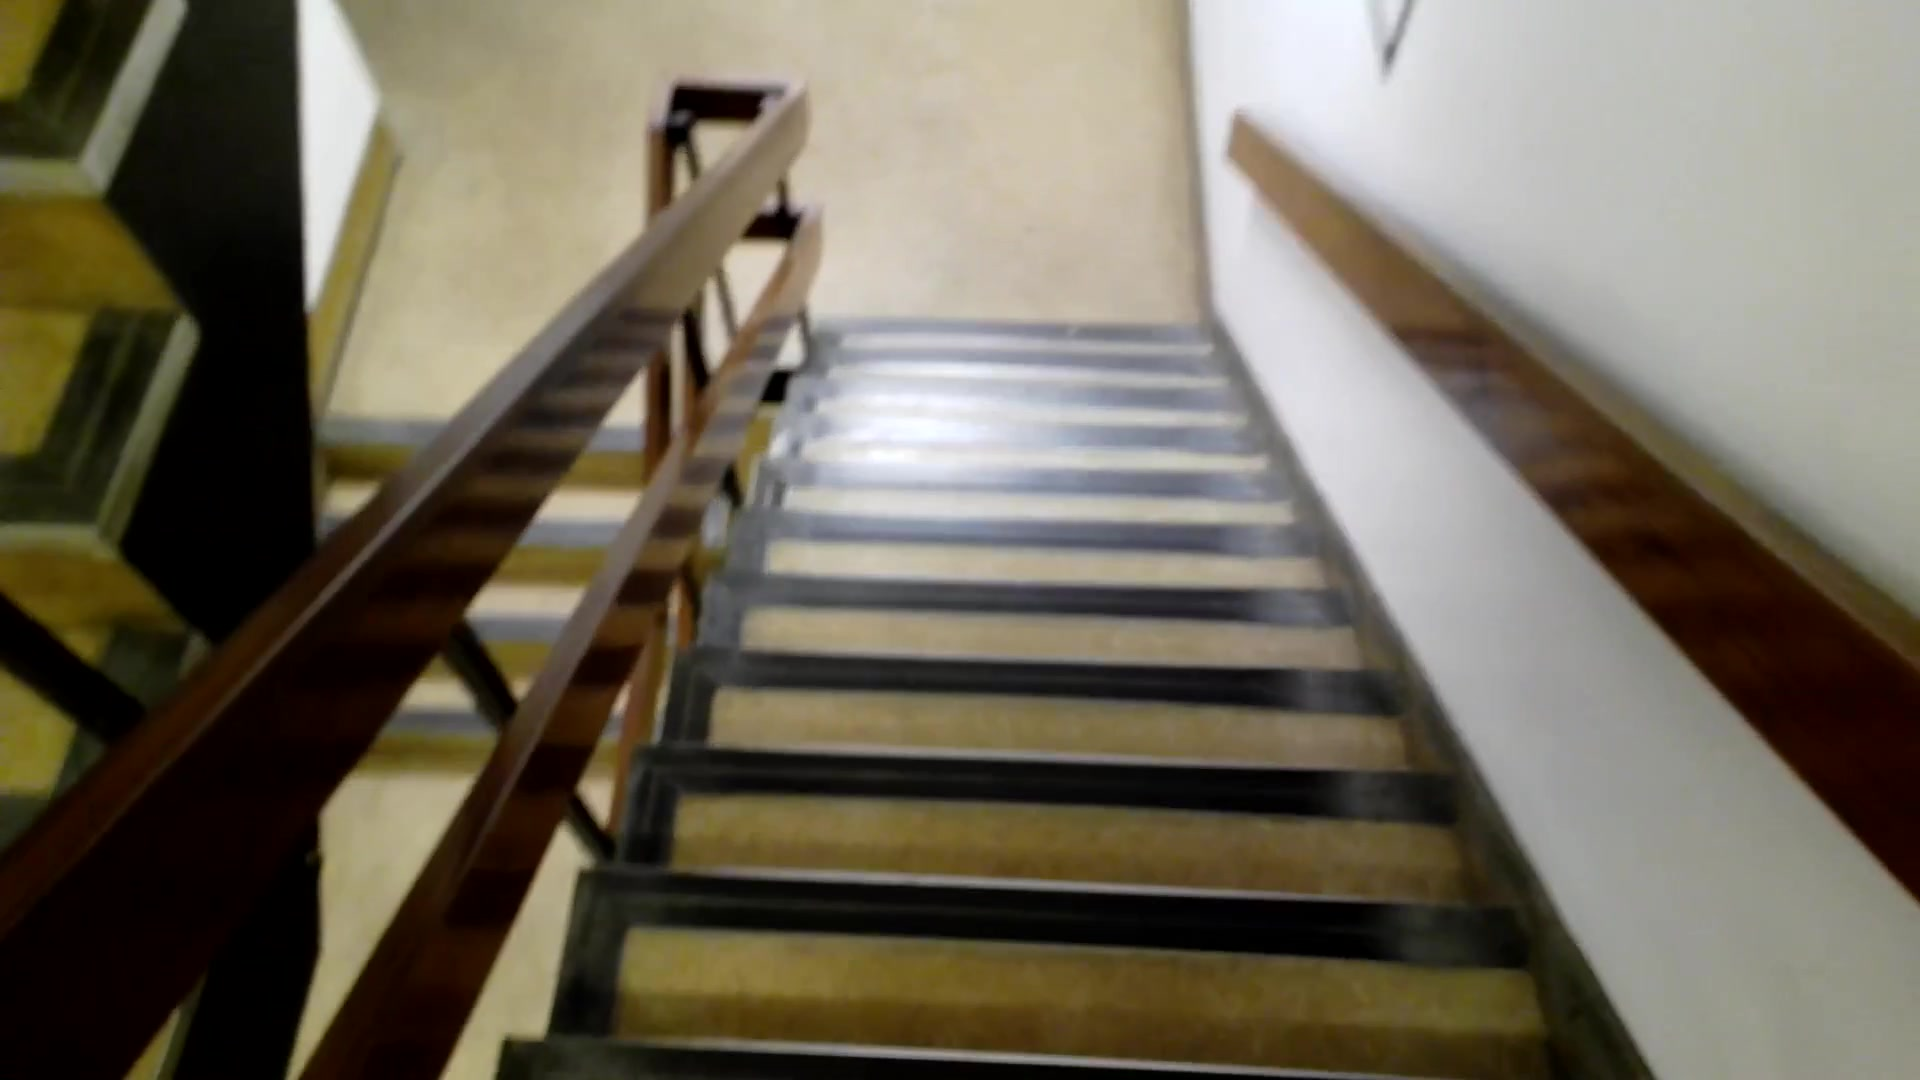Stairs: (733, 291, 1556, 1080)
